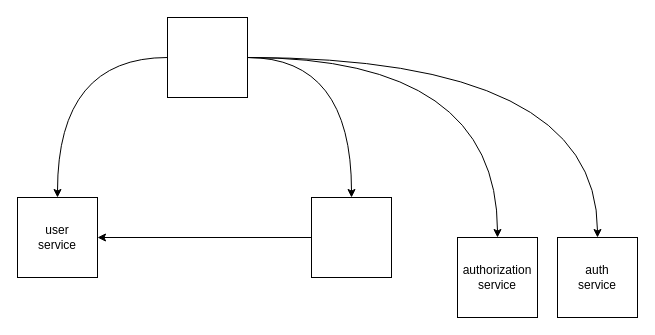
Image size: 655x335. Some labels were removed from this diagram. The shapes that lost their labels are listed below. From the top down, each one's box as (x1, y1, x2, y2) in pixels, then its label:
(166, 16, 248, 98): web service
(310, 196, 392, 278): todo service
